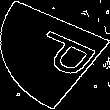P_SE: (12, 26, 98, 84)
